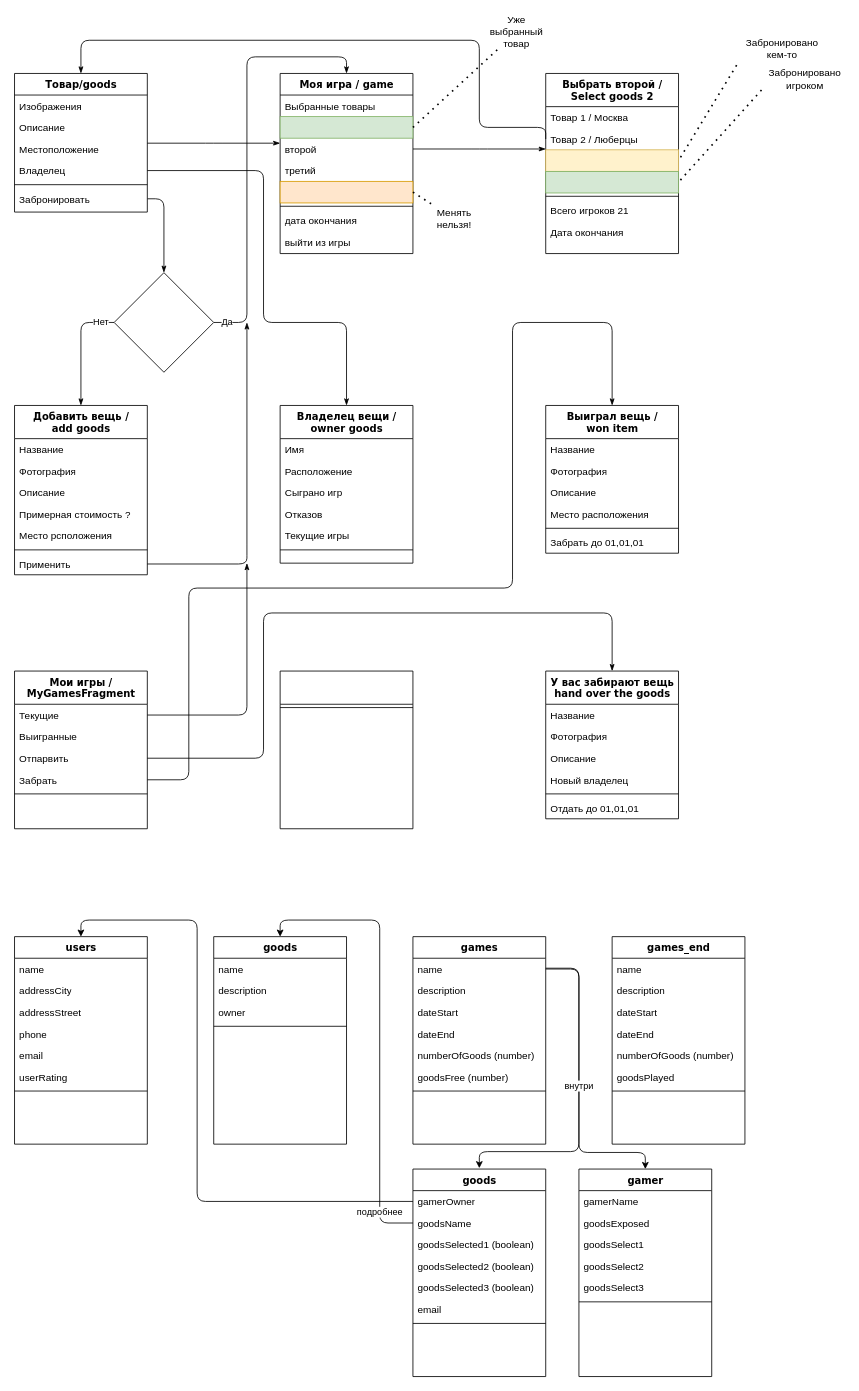
This 859x1391 diagram has some shape labels left out. Each missing label, with the centre of its shape:
(2) Товар 4 / Урюпинск: (x=612, y=182)
Есть вещь для обмена?: (x=163, y=322)
Мои вещи / MyGoodsFragment: (x=346, y=749)
моя ставка: (x=346, y=192)
первый: (x=346, y=127)
Товар 3 / Клоакино: (x=612, y=160)
